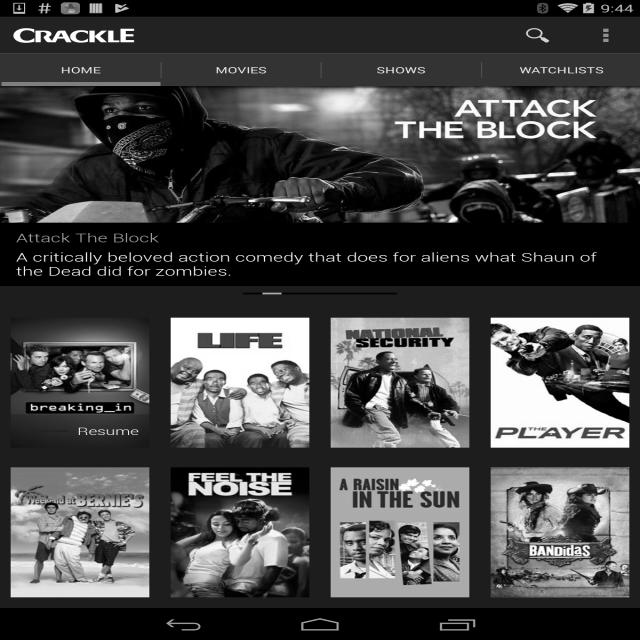ImageButton: (11, 318, 149, 448), (171, 318, 309, 448), (331, 318, 469, 448), (491, 318, 629, 448), (11, 468, 149, 598), (171, 468, 309, 598), (331, 468, 469, 598), (491, 468, 629, 598), (571, 16, 640, 54)
ImageView: (0, 86, 640, 223), (11, 318, 149, 448), (171, 318, 309, 448), (331, 318, 469, 448), (491, 318, 629, 448), (11, 468, 149, 598), (171, 468, 309, 598), (331, 468, 469, 598), (491, 468, 629, 598), (0, 286, 640, 305), (0, 86, 640, 89), (14, 28, 134, 43)
ProgressBar: (21, 430, 69, 432)
TextView: (16, 249, 624, 279), (16, 230, 624, 246), (503, 17, 572, 54), (520, 64, 604, 76), (77, 424, 139, 438), (216, 64, 266, 76), (376, 64, 426, 76), (61, 64, 101, 76)
